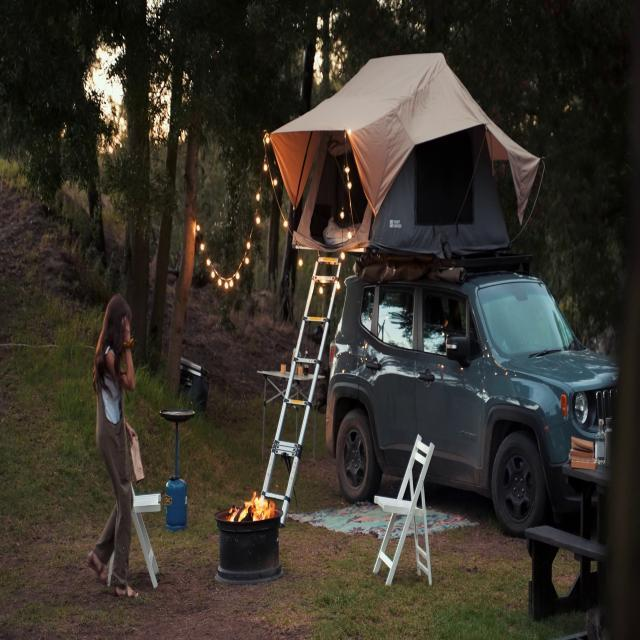Fire: (222, 479, 276, 522)
